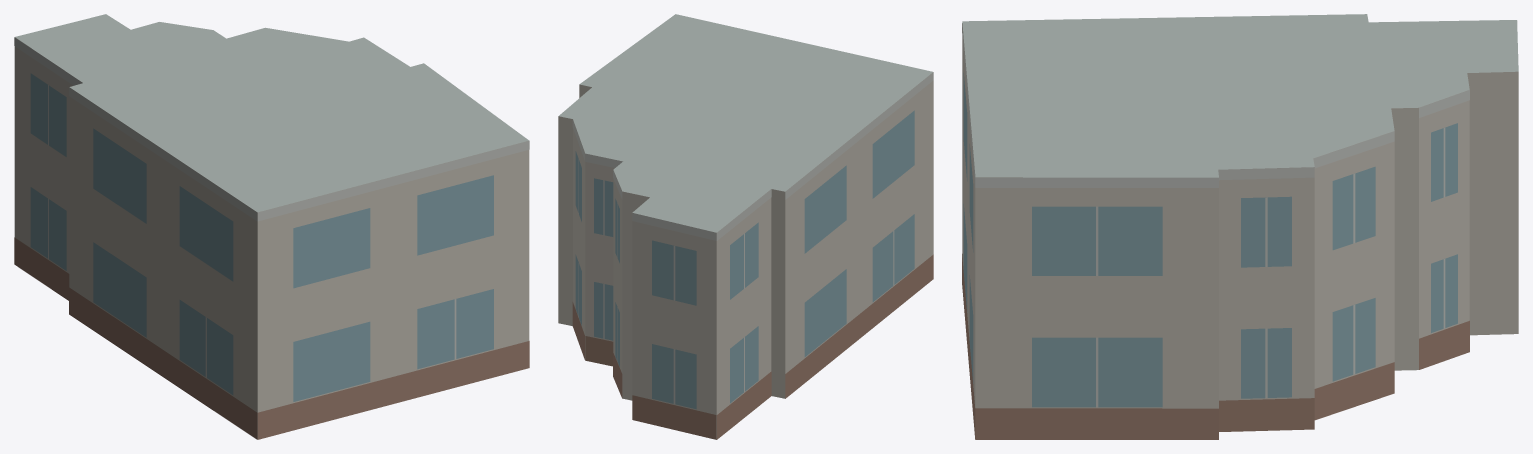
File: survey-upis-32665740.glb
The picture shows the model from 3 angles, left to right: view 1: azimuth 30°, elevation 25°; view 2: azimuth 150°, elevation 25°; view 3: azimuth 270°, elevation 25°; orthographic projection. The views are drawn at different scales.
Parts seen in each view (by area): view 1: survey-upis-32665740.tmp; view 2: survey-upis-32665740.tmp; view 3: survey-upis-32665740.tmp.
Part boxes in pixels (bbox=[...]): survey-upis-32665740.tmp: bbox=[14, 14, 529, 439]; survey-upis-32665740.tmp: bbox=[558, 14, 933, 439]; survey-upis-32665740.tmp: bbox=[962, 14, 1518, 439].
Bounding box in the file's own units: 8.17 × 6.1 × 11.74.
